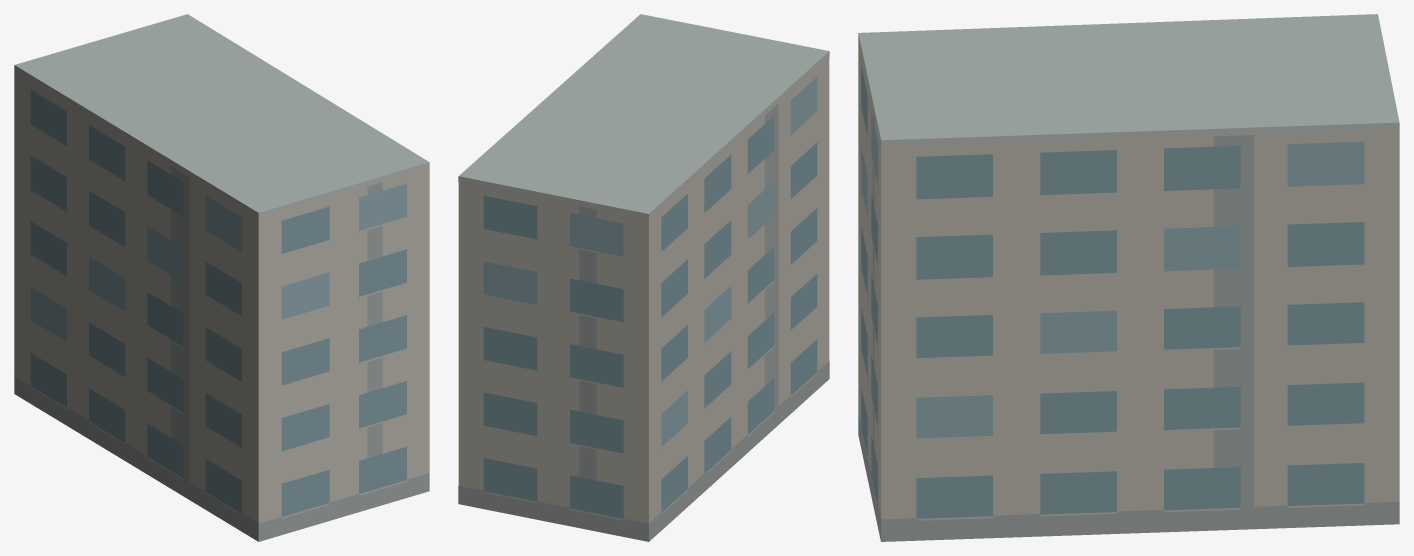
Rendered from survey-upis-32750105.glb.
The picture shows the model from 3 angles, left to right: view 1: azimuth 30°, elevation 25°; view 2: azimuth 150°, elevation 25°; view 3: azimuth 270°, elevation 25°; orthographic projection. The views are drawn at different scales.
Parts seen in each view (by area): view 1: survey-upis-32750105.tmp; view 2: survey-upis-32750105.tmp; view 3: survey-upis-32750105.tmp.
Part boxes in pixels (left/top/right/bottom): survey-upis-32750105.tmp: left=14, top=14, right=429, bottom=541; survey-upis-32750105.tmp: left=458, top=14, right=829, bottom=541; survey-upis-32750105.tmp: left=858, top=14, right=1399, bottom=541.
Size of the model in its own units: 8.87 by 13.15 by 16.07.
